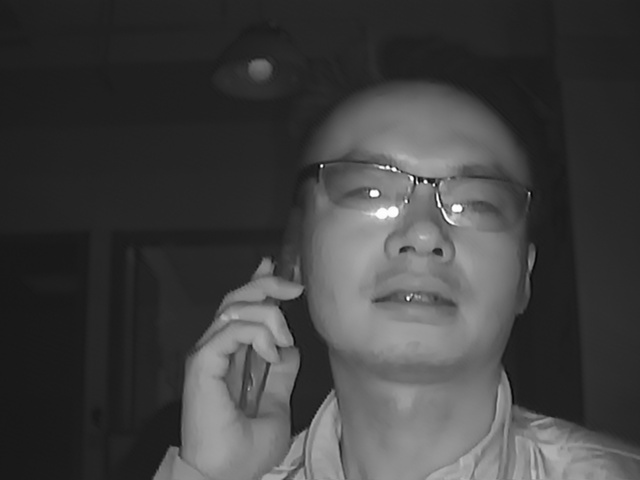hand: (174, 258, 300, 469)
